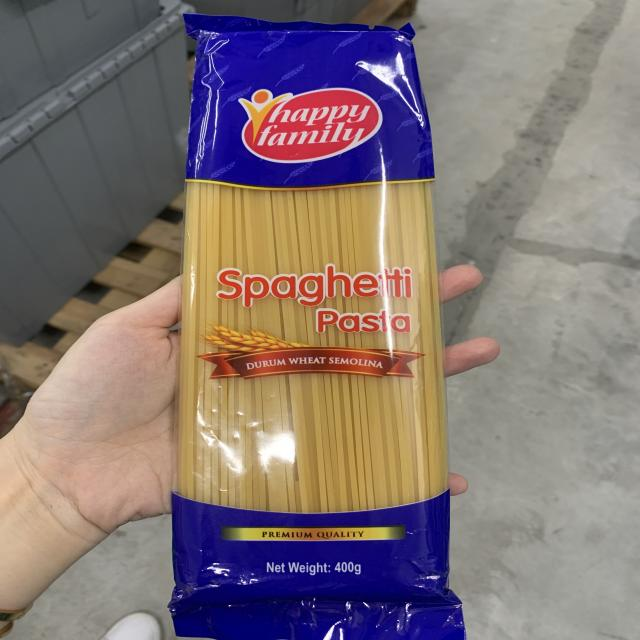object_name: (199, 22, 450, 638)
